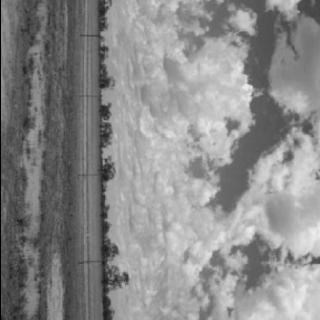Altocumulus: (112, 0, 320, 320)
